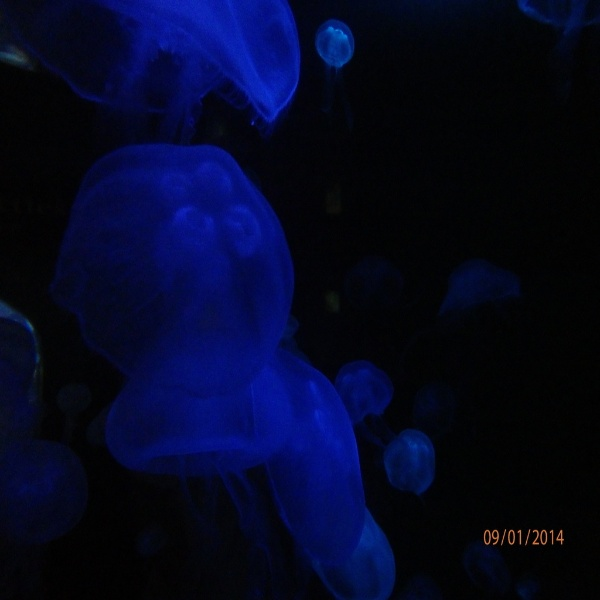Jellyfish: (41, 141, 394, 562), (241, 347, 397, 599), (103, 0, 301, 127)
